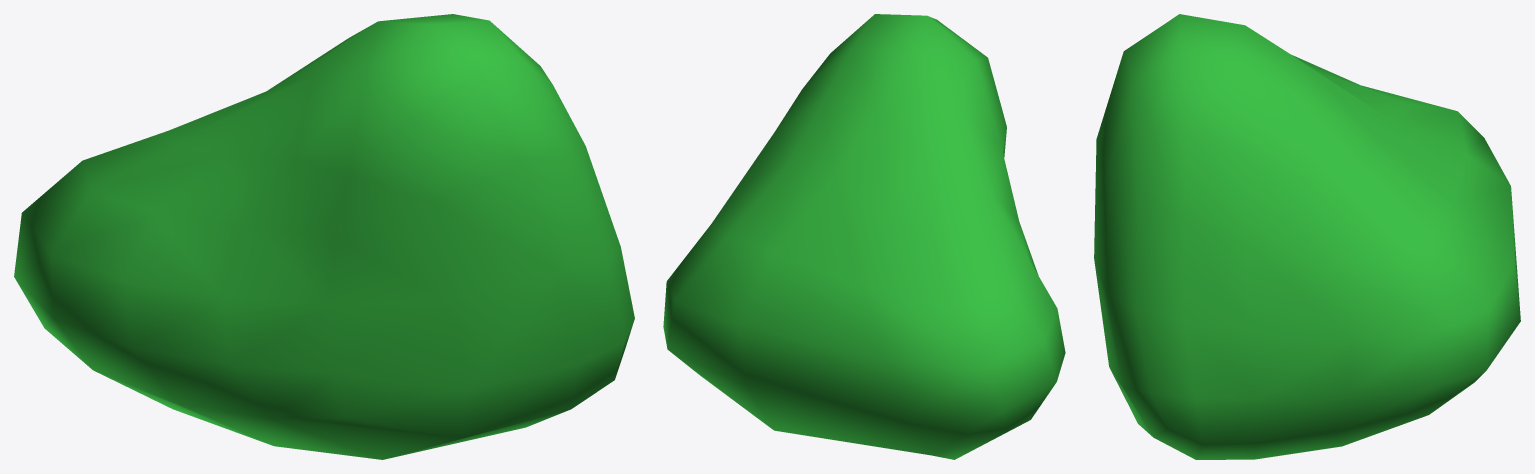
File: Tree Top 4.fbx
3 renders of one model, left to right at view 1: azimuth 30°, elevation 25°; view 2: azimuth 150°, elevation 25°; view 3: azimuth 270°, elevation 25°, orthographic. The views are drawn at different scales.
Parts seen in each view (by area): view 1: Group43746; view 2: Group43746; view 3: Group43746.
Boxes of the visible parts, x1,y1,x2,y2 form: Group43746: [14, 14, 634, 459]; Group43746: [663, 14, 1065, 459]; Group43746: [1094, 14, 1520, 459].
Bounding box in the file's own units: 1.15 × 1.05 × 1.01.
Materials: 1 (1 with a texture image).
